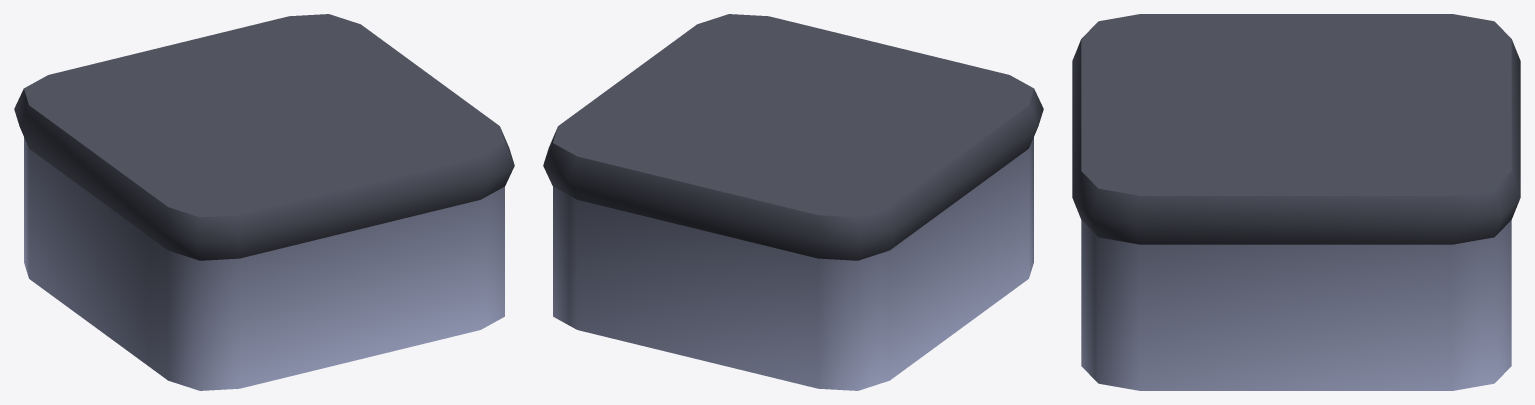
File: block-snow-large.glb
3 renders of one model, left to right at view 1: azimuth 30°, elevation 25°; view 2: azimuth 150°, elevation 25°; view 3: azimuth 270°, elevation 25°, orthographic. The views are drawn at different scales.
Visible parts, largest first — view 1: block-snow-large; view 2: block-snow-large; view 3: block-snow-large.
Part boxes in pixels (bbox=[...]): block-snow-large: bbox=[14, 14, 514, 390]; block-snow-large: bbox=[543, 14, 1043, 390]; block-snow-large: bbox=[1072, 14, 1520, 390].
Bounding box in the file's own units: 2.08 × 1 × 2.08.
